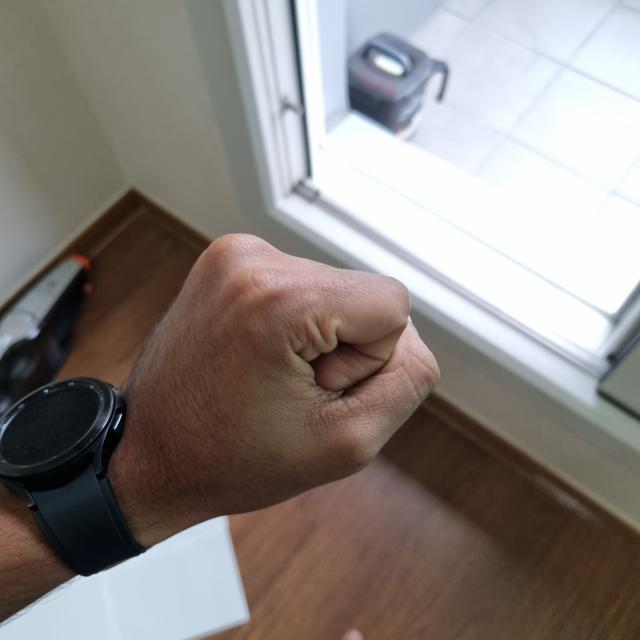Rock: (114, 235, 433, 529)
